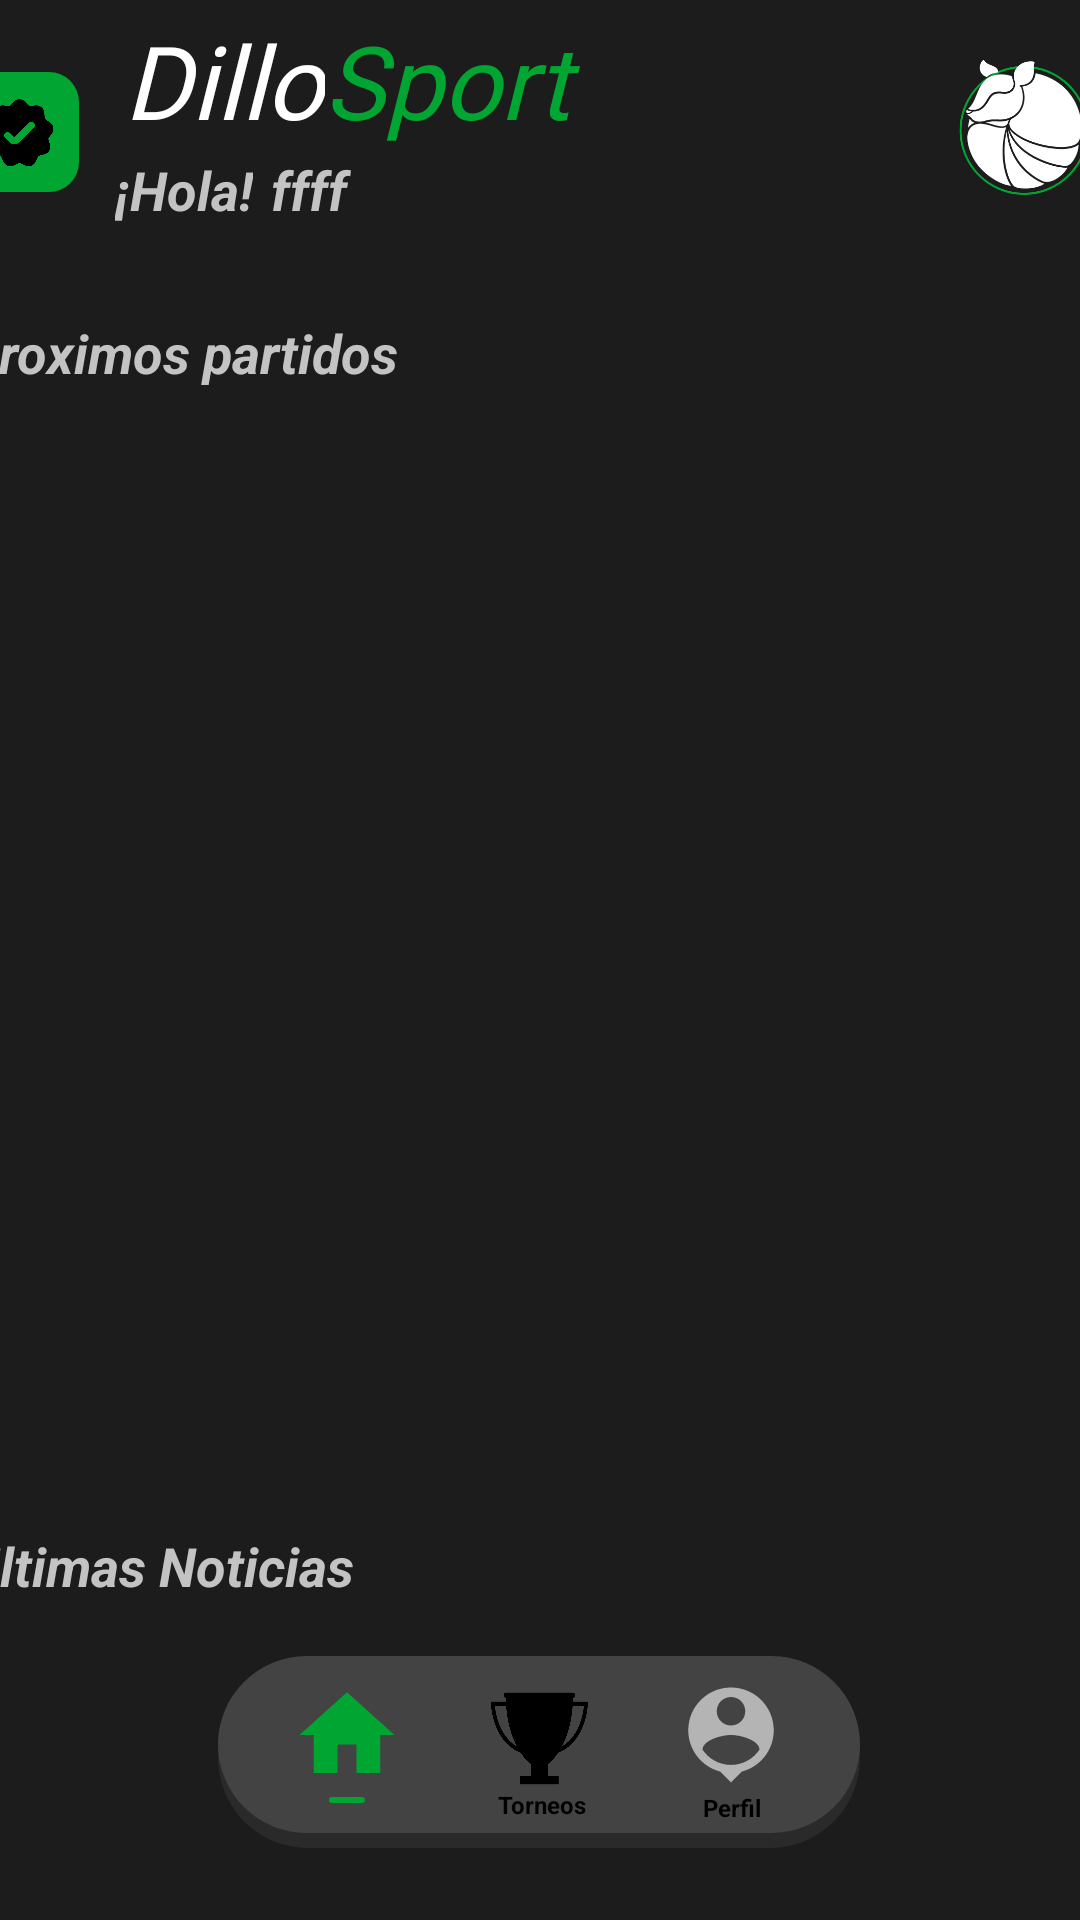

Icons on this 1080 x 1920 Android screen, each with the point to tap as (x=x, y=y):
home: (x=347, y=1732)
